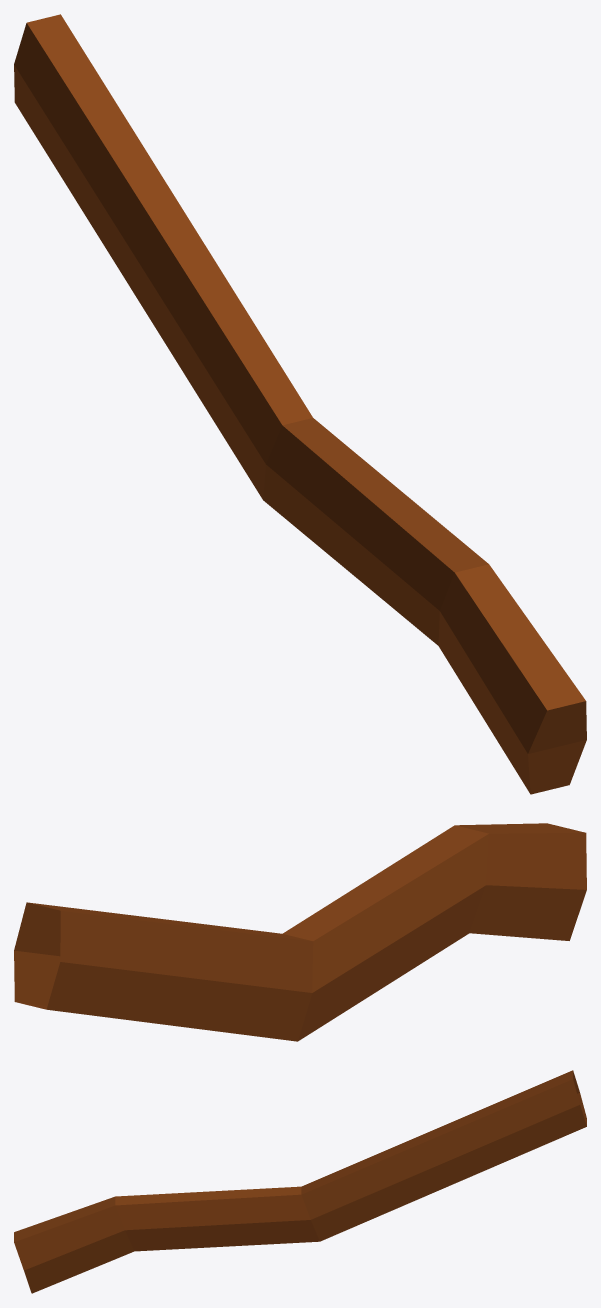
File: FloatingIsland_Dif5_Sc2.fbx
The picture shows the model from 3 angles, top to bottom: view 1: azimuth 30°, elevation 25°; view 2: azimuth 150°, elevation 25°; view 3: azimuth 270°, elevation 25°; orthographic projection. The views are drawn at different scales.
Parts seen in each view (by area): view 1: FloatingIsland_Dif5_Sc2; view 2: FloatingIsland_Dif5_Sc2; view 3: FloatingIsland_Dif5_Sc2.
Boxes of the visible parts, bbox=[...] form: FloatingIsland_Dif5_Sc2: bbox=[14, 14, 586, 794]; FloatingIsland_Dif5_Sc2: bbox=[14, 823, 586, 1041]; FloatingIsland_Dif5_Sc2: bbox=[14, 1070, 586, 1293].
Size of the model in its own units: 0.0222 by 0.3499 by 0.1443.
